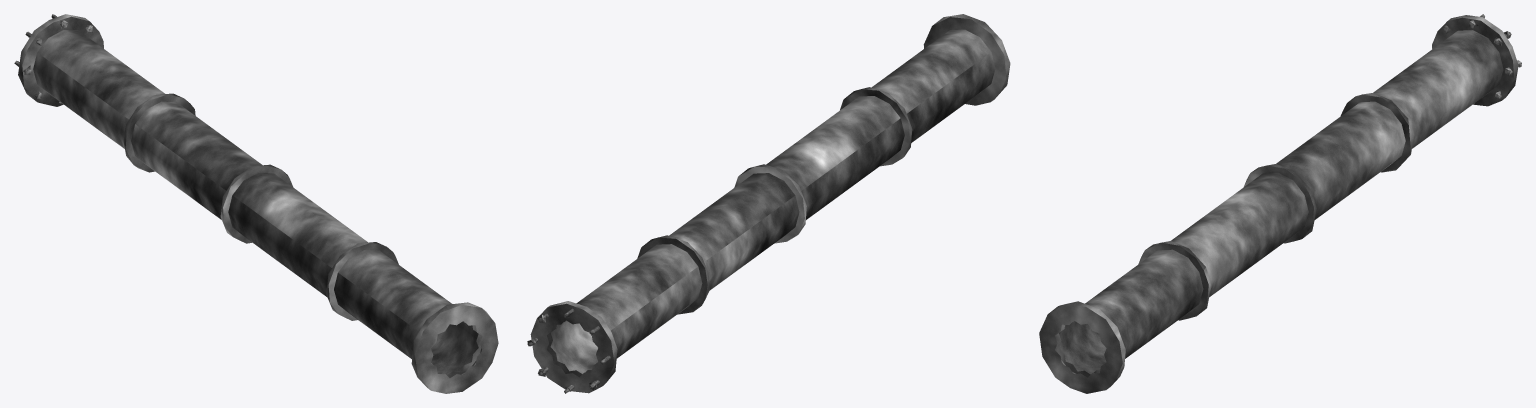
The model's file is SM_pipe_01.fbx.
3 renders of one model, left to right at view 1: azimuth 30°, elevation 25°; view 2: azimuth 150°, elevation 25°; view 3: azimuth 330°, elevation 25°, orthographic.
Visible parts, largest first — view 1: SM_pipe_01_LOD0; view 2: SM_pipe_01_LOD0; view 3: SM_pipe_01_LOD0.
Part boxes in pixels (bbox=[...]): SM_pipe_01_LOD0: bbox=[14, 14, 498, 393]; SM_pipe_01_LOD0: bbox=[527, 14, 1010, 393]; SM_pipe_01_LOD0: bbox=[1039, 14, 1521, 393].
Bounding box in the file's own units: 24.42 × 204 × 24.3.
